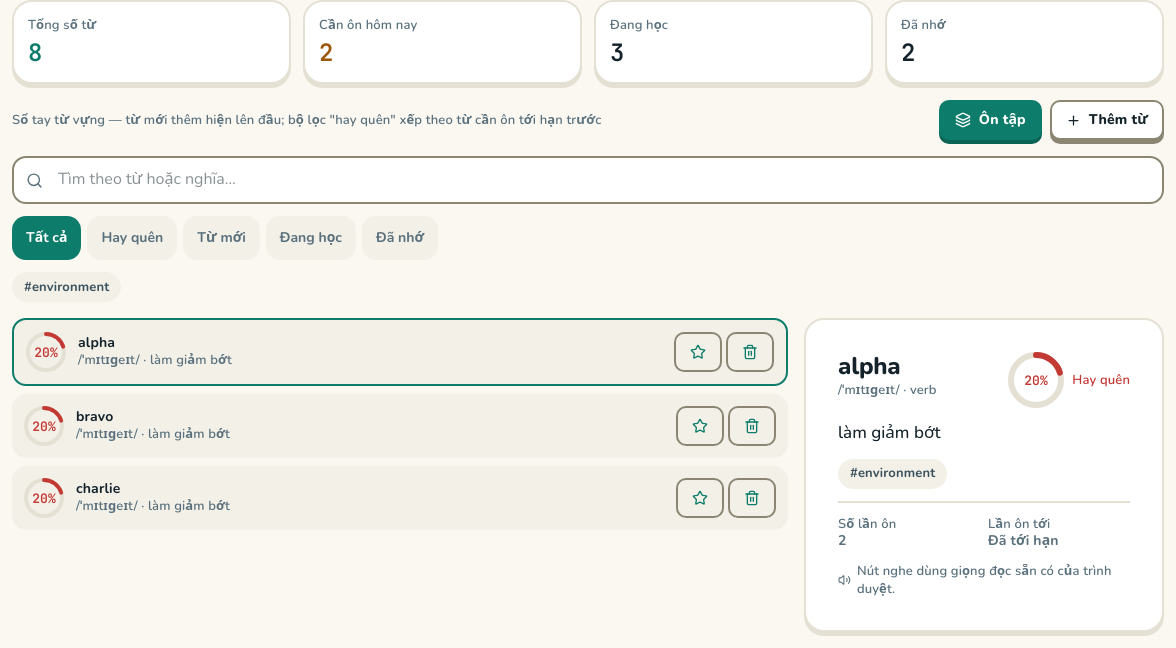
Test case: DictionaryPage — a mutation never reorders the list › rolls the star back when the write is rejected
Click the button named "yêu thích" in the row of "bravo" at x=700, y=426, box [676,406,724,446]
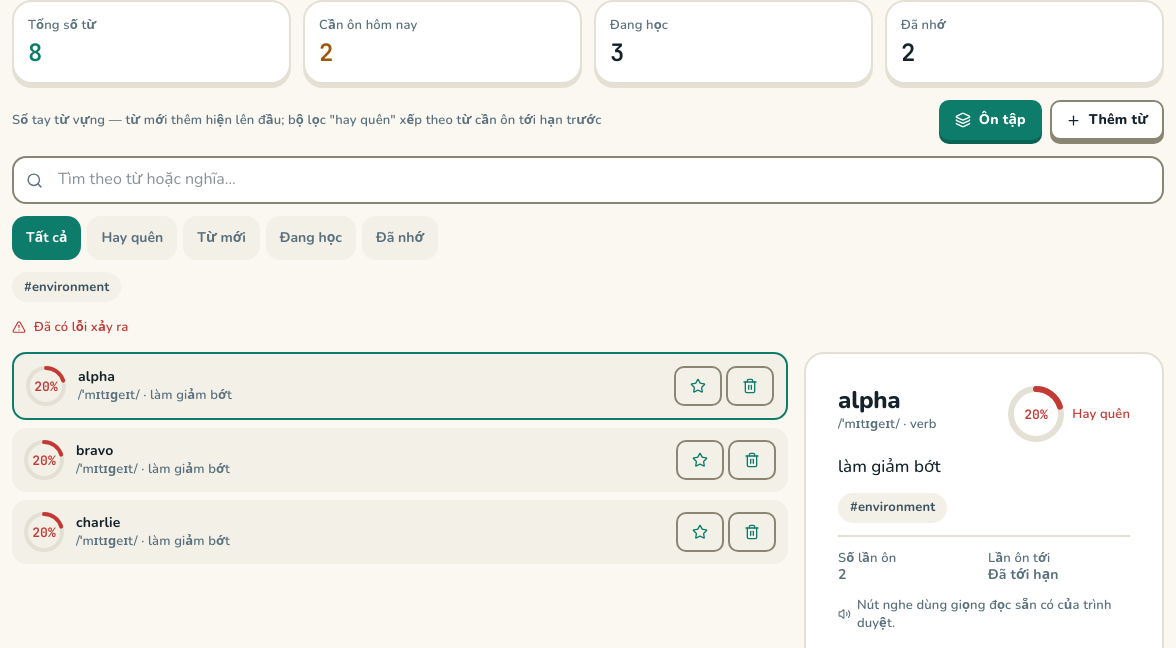
expect the message "Đã có lỗi xảy ra" is shown: met, box [12,318,128,336]
